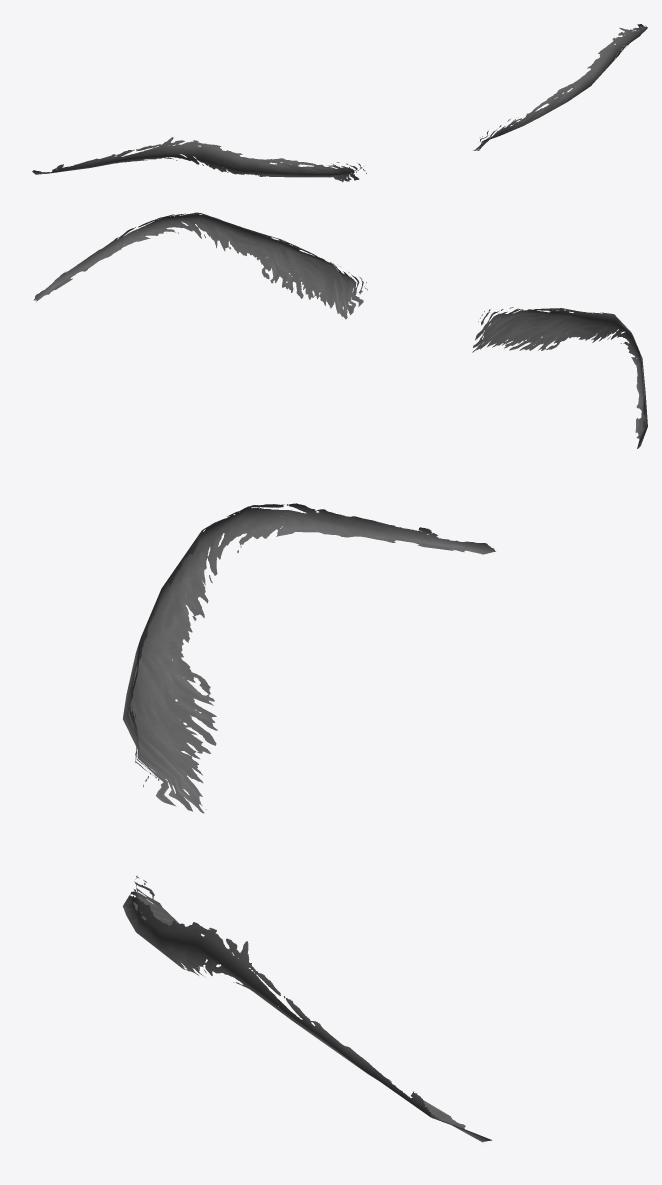
The model's file is brow003.glb.
The picture shows the model from 3 angles, top to bottom: view 1: azimuth 30°, elevation 25°; view 2: azimuth 150°, elevation 25°; view 3: azimuth 270°, elevation 25°; orthographic projection. The views are drawn at different scales.
Parts seen in each view (by area): view 1: editor_brow003; view 2: editor_brow003; view 3: editor_brow003.
Boxes of the visible parts, box(x1,y1,x2,y2) form: editor_brow003: box(32, 24, 647, 182); editor_brow003: box(33, 212, 647, 448); editor_brow003: box(123, 503, 495, 1142).
Bounding box in the file's own units: 0.1112 × 0.0137 × 0.0323.
1 material, 1 textured.
